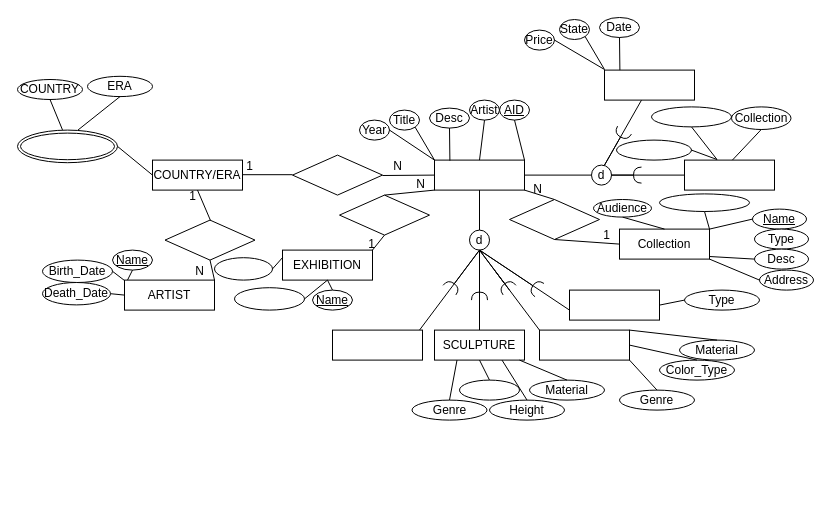
Some shapes in this 831 by 525 pixel diagram are drawn without their labels. Each missing label, with the box of its shape:
ART-OBJECT: (434, 159, 524, 190)
Borrow_Date: (650, 106, 732, 127)
BORROWED: (684, 159, 774, 190)
CONTAINS: (508, 198, 600, 240)
COUNTRY_ERA: (16, 129, 118, 163)
CREATED IN: (292, 154, 382, 195)
End_Date: (214, 257, 272, 280)
LIVED IN: (164, 219, 255, 260)
OTHER: (568, 289, 660, 320)
PAINTING: (538, 329, 630, 360)
PERMANENT: (604, 69, 694, 100)
Phone_Number: (658, 193, 750, 212)
Return_Date: (616, 139, 692, 160)
SHOWS: (338, 194, 430, 235)
Start_Date: (234, 287, 304, 310)
STATUE: (332, 329, 422, 360)
Weight: (458, 379, 520, 400)
